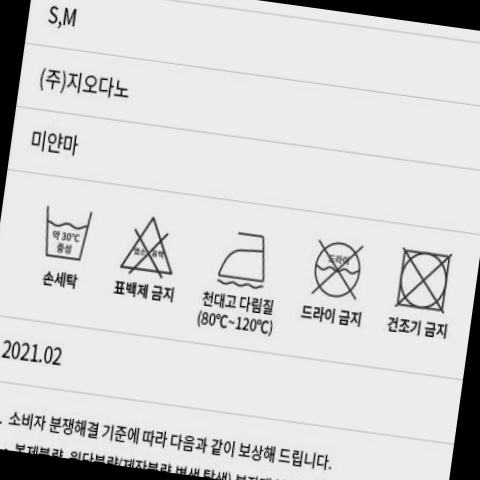30C: (31, 196, 101, 267)
DN_dry_clean: (303, 232, 372, 303)
DN_tumble_dry: (388, 243, 461, 319)
iron: (212, 222, 277, 293)
non_chlorine_bleach: (116, 207, 185, 282)
